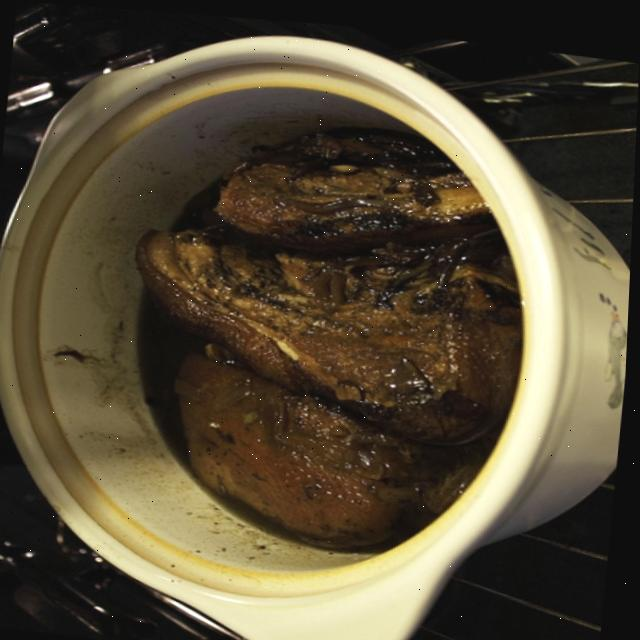牛肉菜式: (0, 33, 587, 604)
